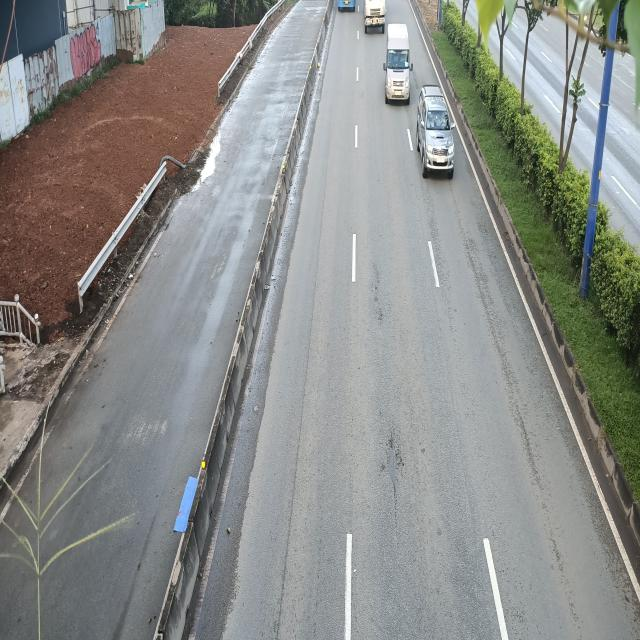car: (416, 87, 455, 179)
van: (382, 23, 410, 103)
